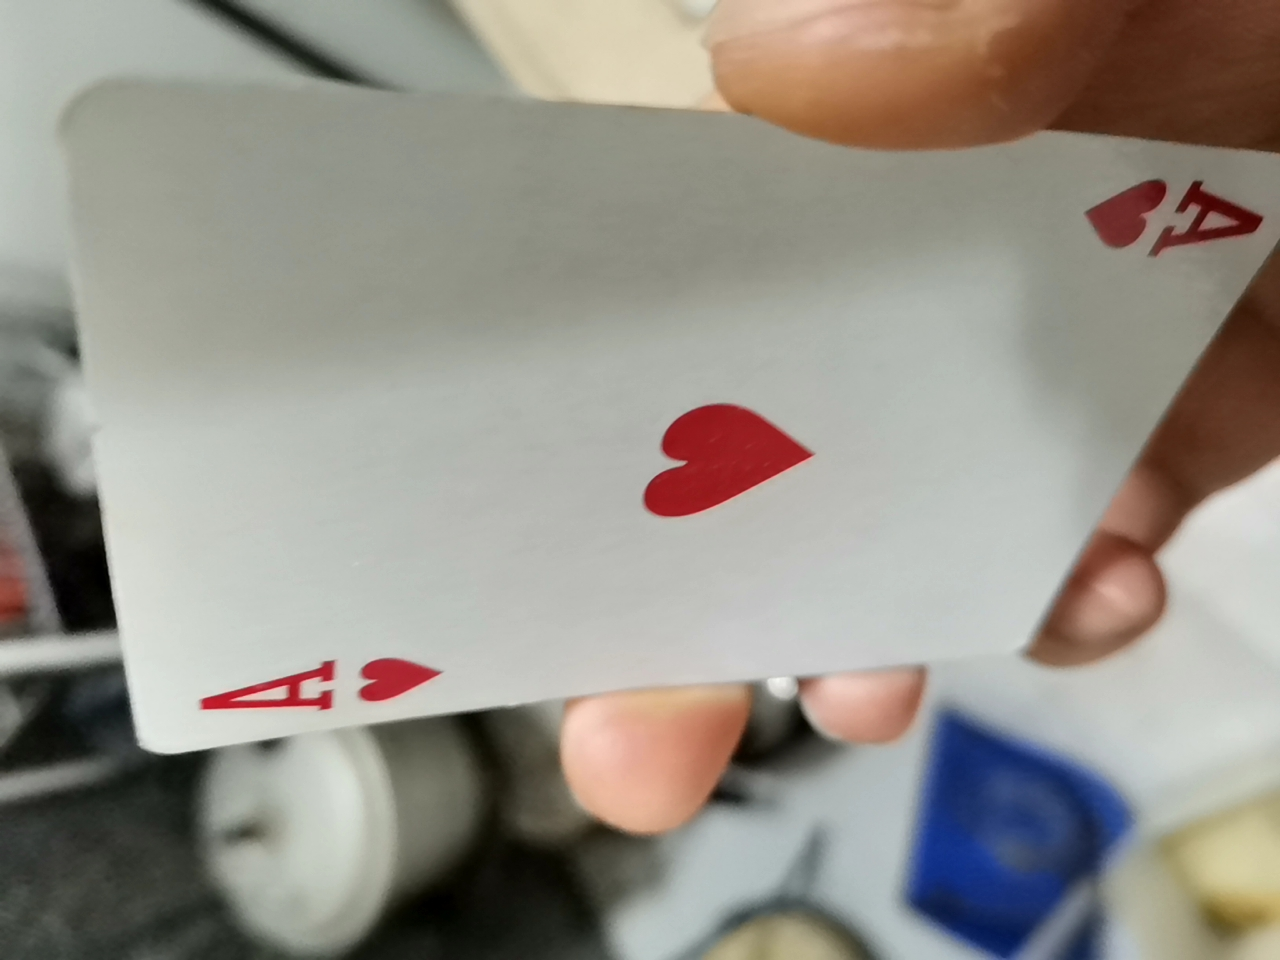hx a: (71, 90, 1210, 776)
